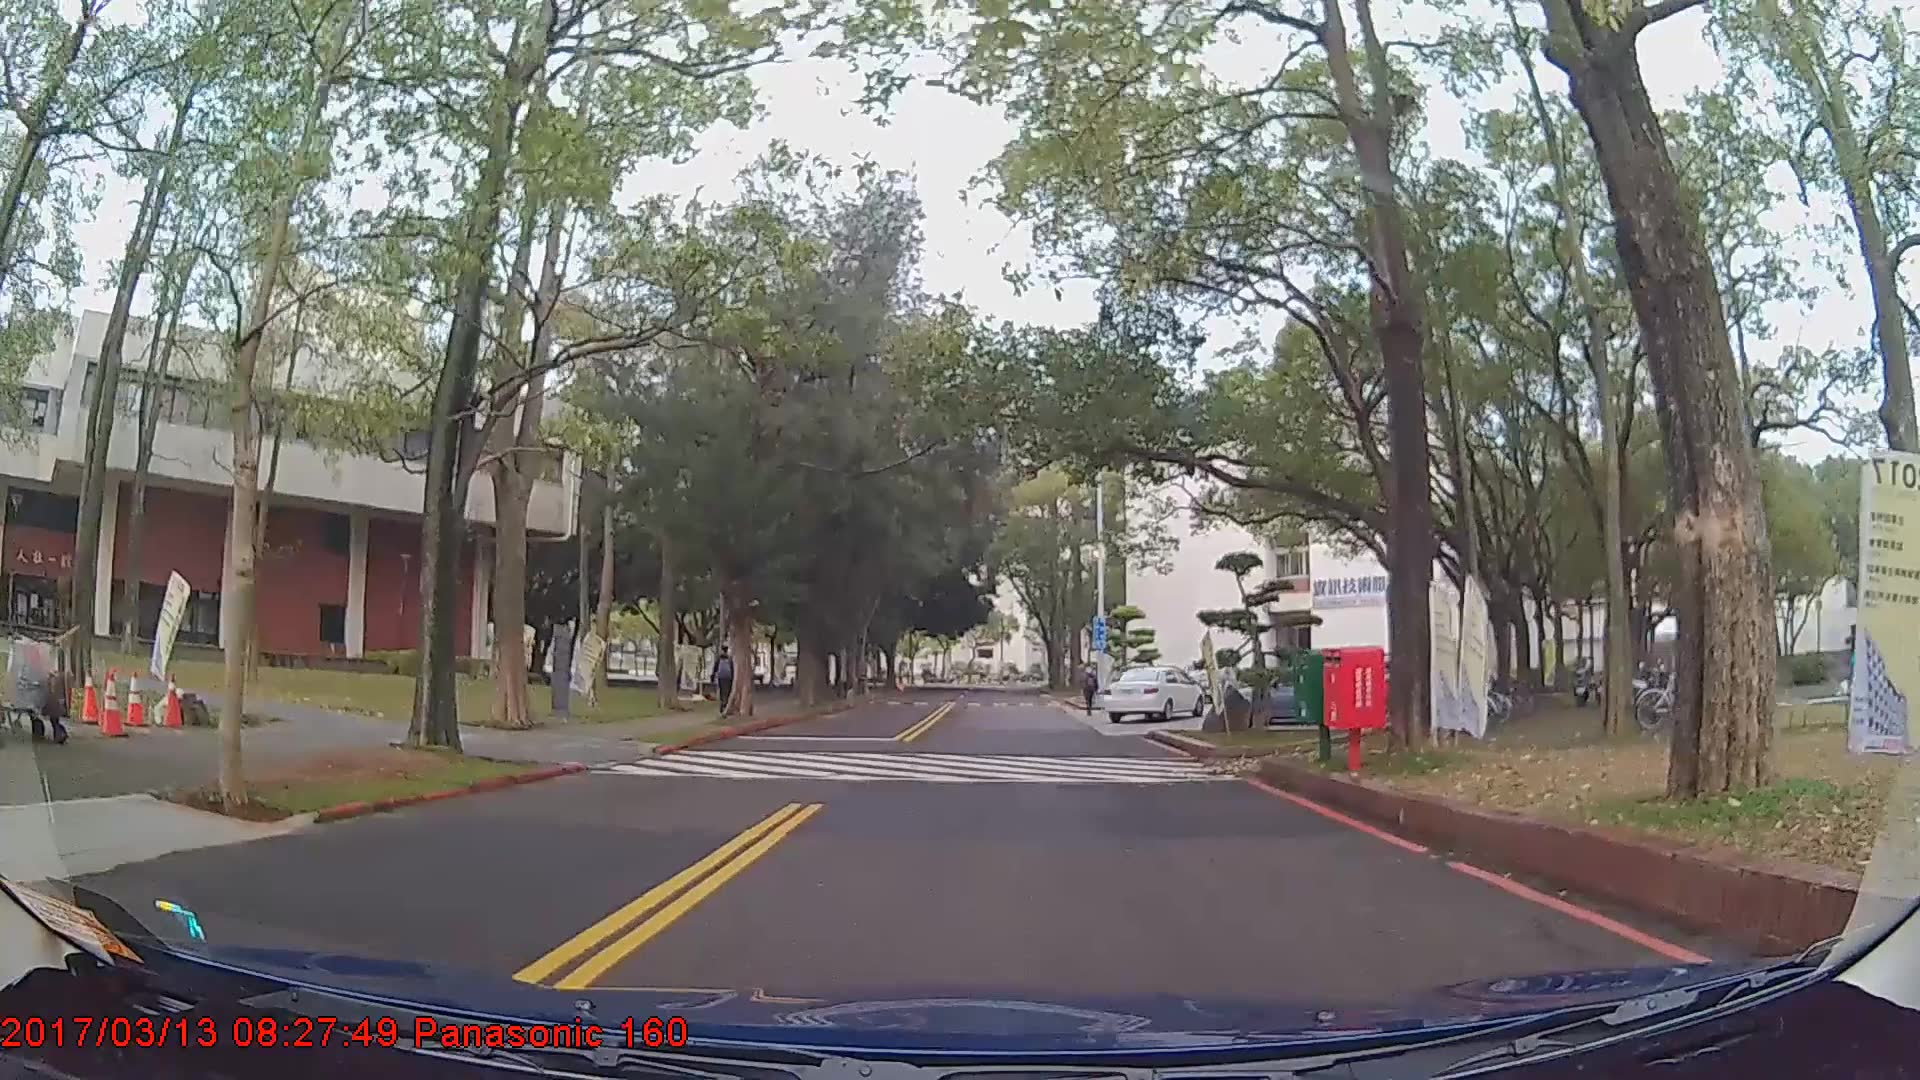pedestrian: (711, 652, 741, 722), (1079, 669, 1101, 722)
vehicle: (1103, 661, 1206, 720)
